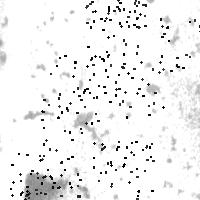pitted_surface: (8, 6, 111, 161), (93, 141, 152, 200), (86, 0, 145, 59), (41, 91, 101, 149), (48, 51, 107, 106), (105, 61, 162, 116), (20, 154, 79, 200), (10, 153, 64, 200), (159, 18, 200, 75), (84, 0, 142, 29), (20, 171, 73, 200)
